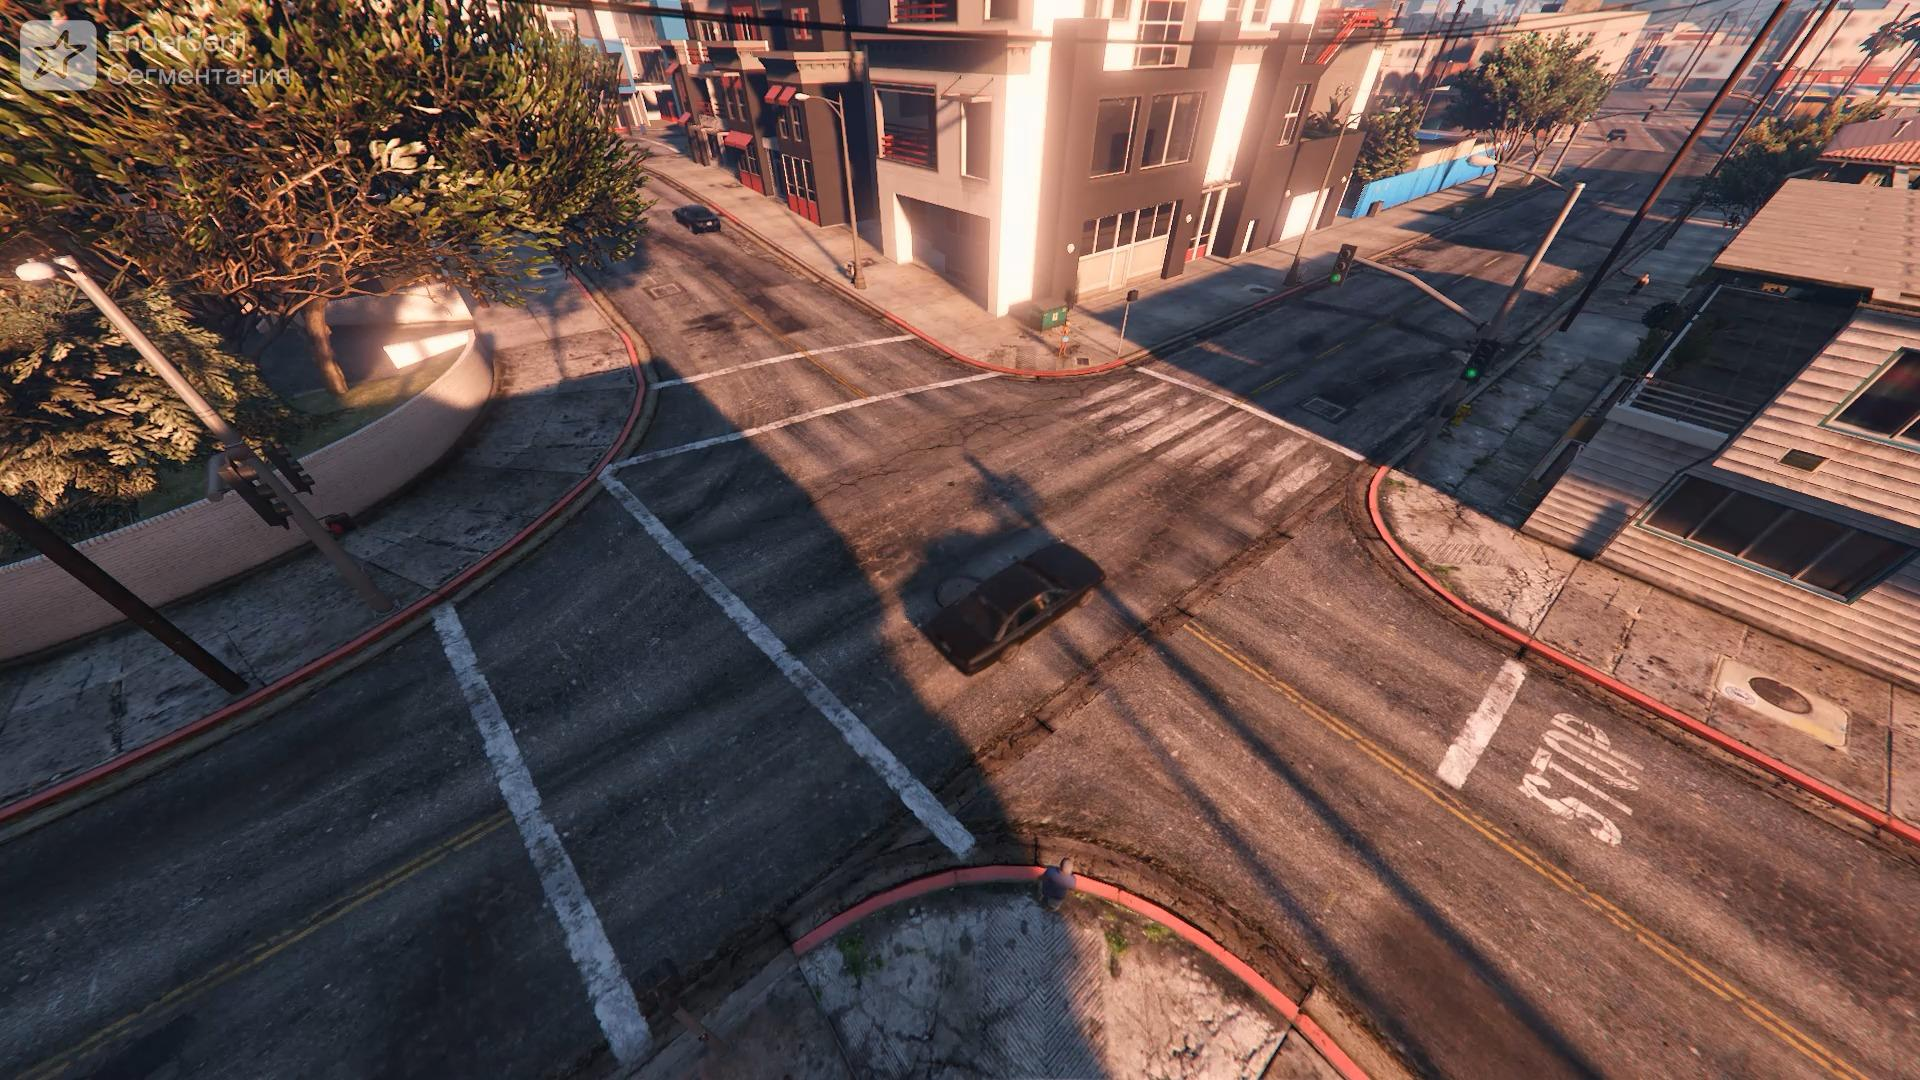car: (922, 542, 1096, 676), (673, 203, 723, 235), (1606, 128, 1627, 142)
